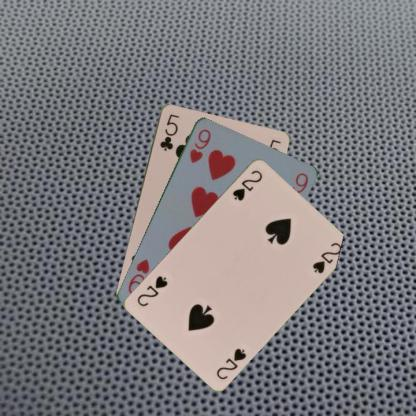2s: (229, 167, 264, 202), (214, 345, 248, 381)
5c: (157, 111, 180, 152)
9h: (187, 126, 212, 164)
